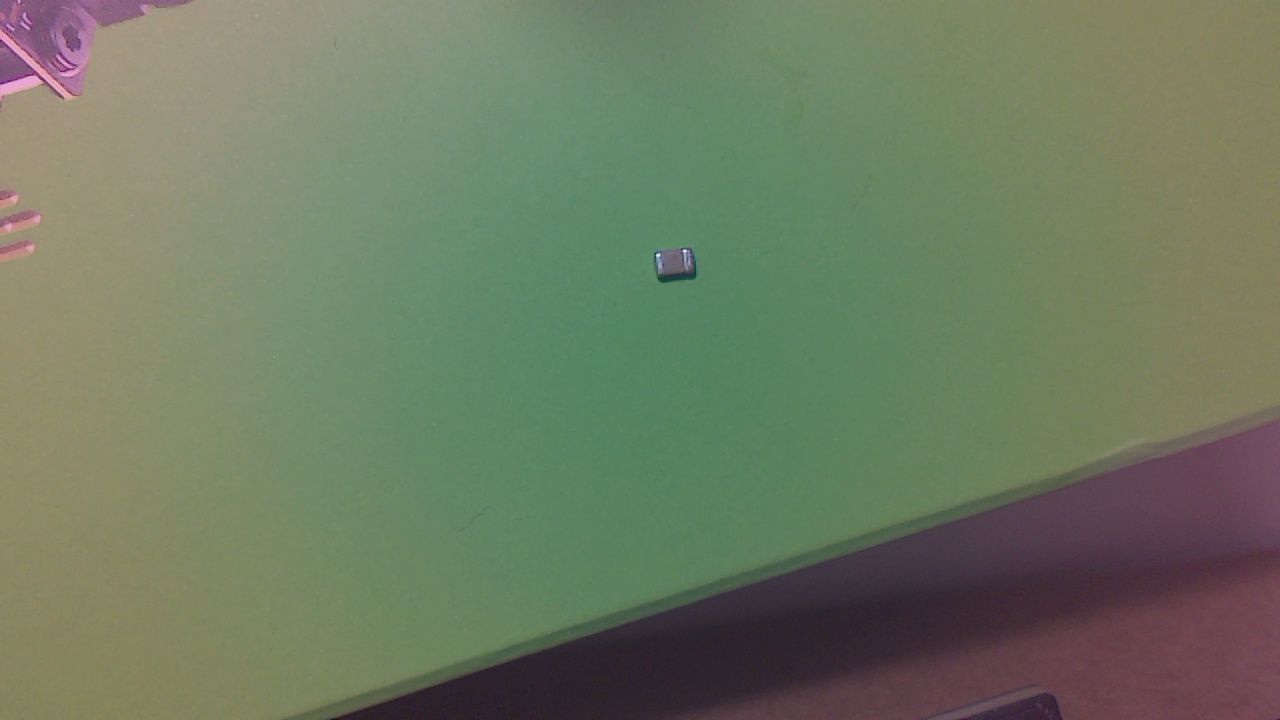Condensator: (658, 251, 702, 286)
